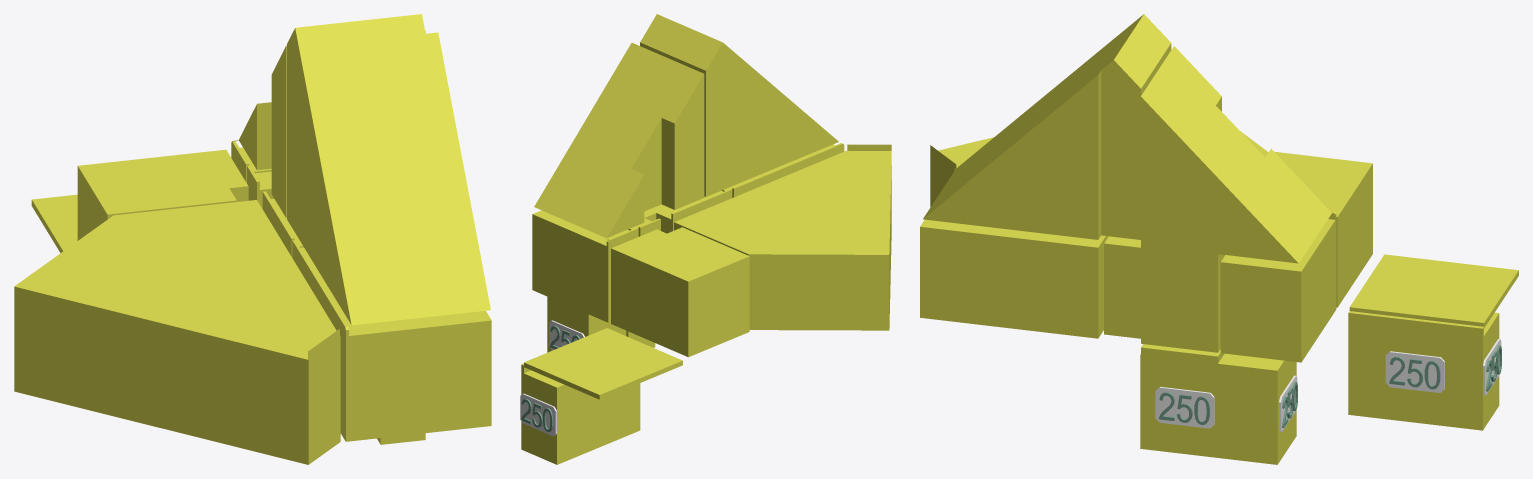
The picture shows the model from 3 angles, left to right: view 1: azimuth 30°, elevation 25°; view 2: azimuth 150°, elevation 25°; view 3: azimuth 270°, elevation 25°; orthographic projection. The views are drawn at different scales.
Visible parts, largest first — view 1: g_5, g_2, g_6, g_10, g_3, g_13, g_7, g_9; view 2: g_5, g_3, g_10, g_2, g_9, g_1, g_13, g_4, g_7, g_6, g_0, g_21 (+1 smaller); view 3: g_2, g_6, g_3, g_1, g_9, g_4, g_13, g_12, g_11, g_10, g_0, g_8 (+3 smaller).
Boxes of the visible parts, x1=… form: g_5: x1=14, y1=200, x2=340, y2=464; g_2: x1=287, y1=14, x2=490, y2=325; g_6: x1=292, y1=240, x2=491, y2=441; g_10: x1=77, y1=149, x2=248, y2=240; g_3: x1=232, y1=45, x2=286, y2=217; g_13: x1=31, y1=194, x2=77, y2=252; g_7: x1=247, y1=165, x2=303, y2=257; g_9: x1=231, y1=141, x2=271, y2=182; g_5: x1=674, y1=144, x2=891, y2=330; g_3: x1=534, y1=54, x2=704, y2=240; g_10: x1=611, y1=227, x2=749, y2=357; g_2: x1=640, y1=14, x2=838, y2=196; g_9: x1=532, y1=210, x2=638, y2=322; g_1: x1=521, y1=363, x2=640, y2=464; g_13: x1=524, y1=328, x2=682, y2=399; g_4: x1=584, y1=43, x2=657, y2=133; g_7: x1=628, y1=189, x2=732, y2=236; g_6: x1=721, y1=143, x2=844, y2=197; g_0: x1=547, y1=296, x2=626, y2=352; g_21: x1=520, y1=393, x2=556, y2=436; g_2: x1=923, y1=14, x2=1171, y2=239; g_6: x1=920, y1=167, x2=1108, y2=338; g_3: x1=1153, y1=46, x2=1334, y2=263; g_1: x1=1348, y1=311, x2=1499, y2=430; g_9: x1=1220, y1=211, x2=1336, y2=362; g_4: x1=1141, y1=78, x2=1229, y2=254; g_13: x1=1349, y1=254, x2=1518, y2=328; g_12: x1=1140, y1=344, x2=1241, y2=459; g_11: x1=1141, y1=245, x2=1224, y2=352; g_10: x1=1274, y1=151, x2=1372, y2=307; g_0: x1=1235, y1=355, x2=1296, y2=464; g_8: x1=1104, y1=236, x2=1140, y2=338.
Bounding box in the file's own units: 10.27 × 10.1 × 14.37.
